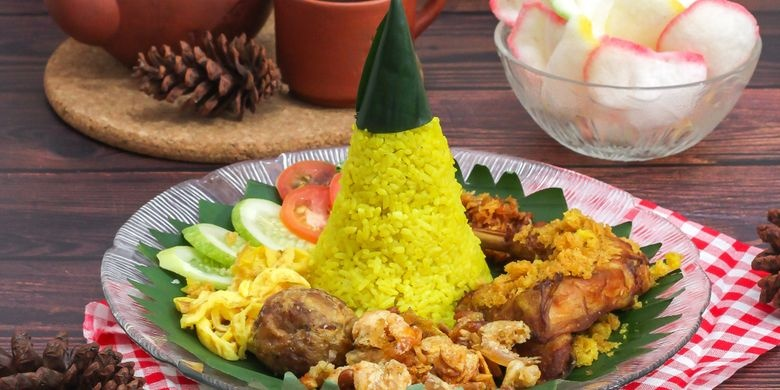nasi_tumpeng: (173, 1, 638, 386)
